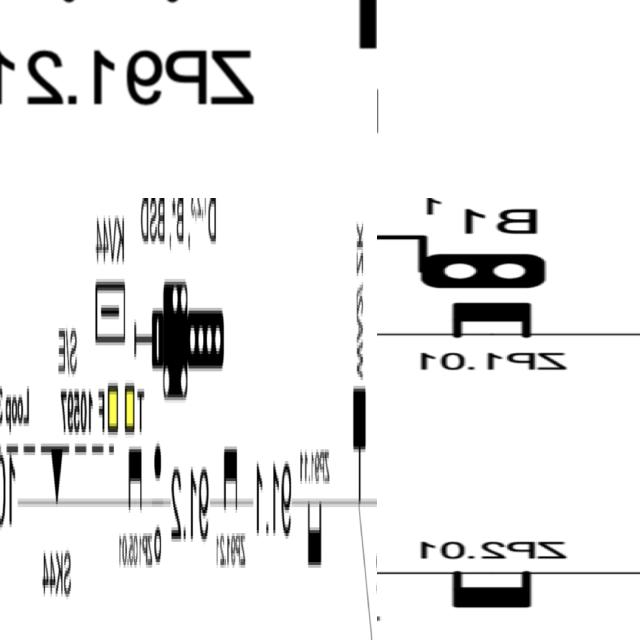radzaehler: (429, 296, 544, 346), (440, 567, 542, 615), (302, 493, 326, 585), (221, 439, 240, 529), (124, 441, 144, 522)
tracknumber: (248, 459, 296, 555), (166, 462, 213, 552)
weiche: (348, 382, 368, 534)
